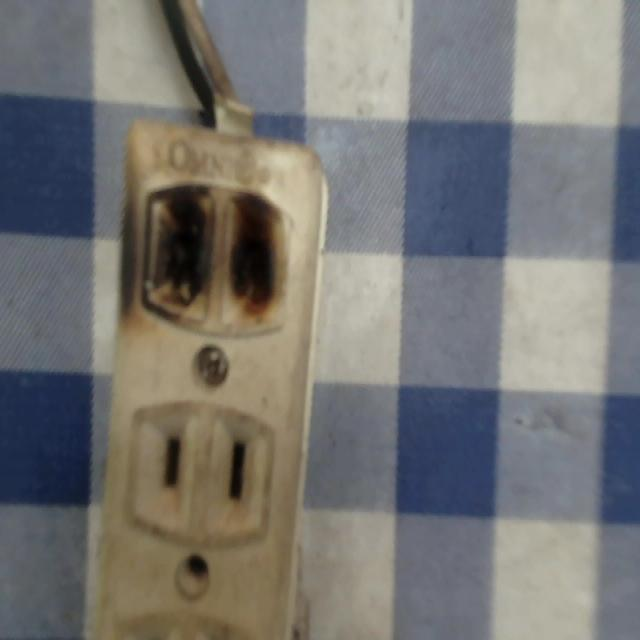-: (137, 169, 294, 335)
